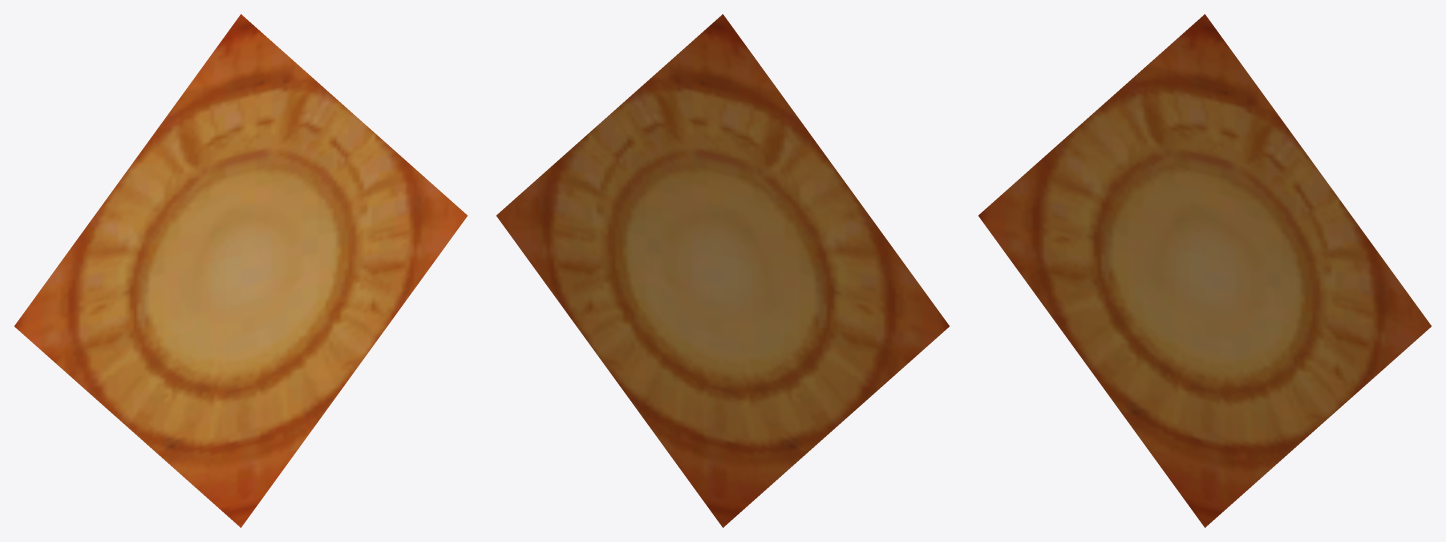
Rendered from hutt_fighter_heavy_engine_s02_on_l2.fbx.
3 renders of one model, left to right at view 1: azimuth 30°, elevation 25°; view 2: azimuth 150°, elevation 25°; view 3: azimuth 330°, elevation 25°, orthographic.
Parts seen in each view (by area): view 1: mesh_node; view 2: mesh_node; view 3: mesh_node.
Boxes of the visible parts, <box> form: mesh_node: <box>14,14,467,527</box>; mesh_node: <box>496,14,949,527</box>; mesh_node: <box>978,14,1431,527</box>.
Size of the model in its own units: 1.81 by 1.96 by 0.
Materials: 1 (1 with a texture image).
